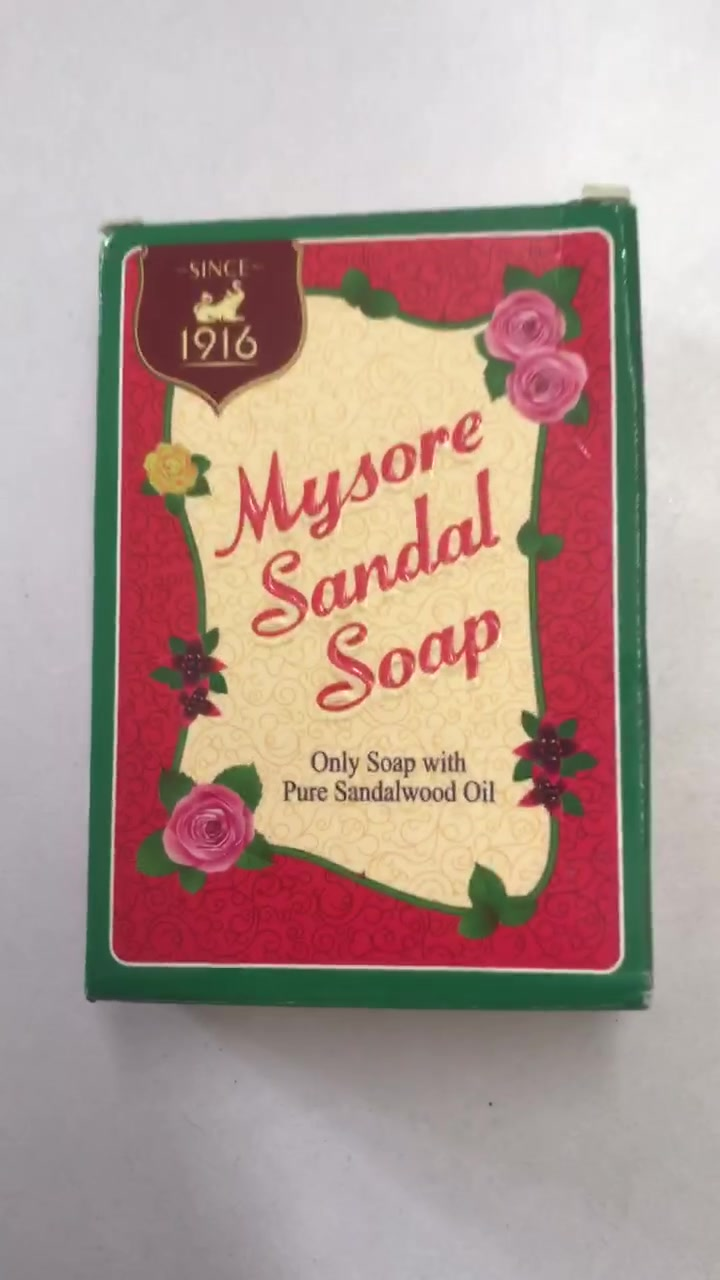mysore sandal soap: (103, 209, 659, 1007)
